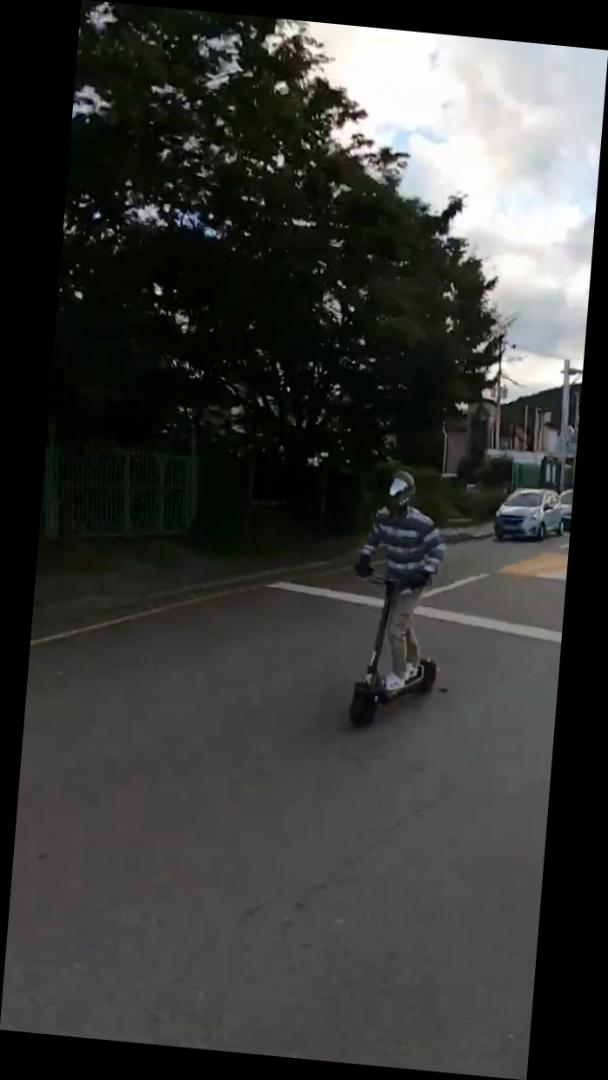helmet: (340, 463, 458, 740)
